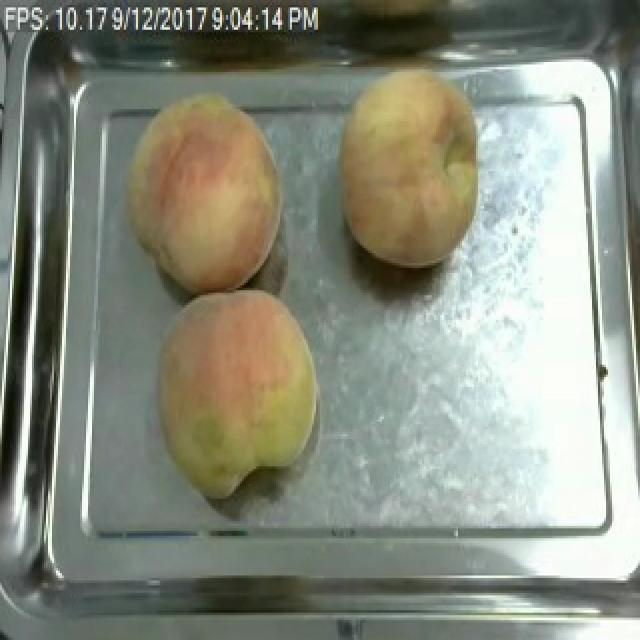Fruit: (146, 280, 326, 506), (110, 82, 294, 298), (330, 59, 490, 276)
